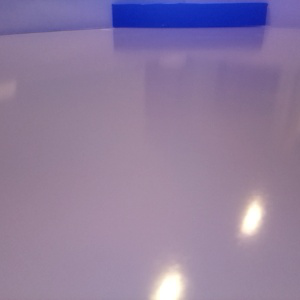zone: (112, 3, 267, 27)
